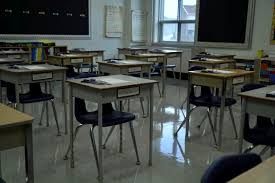desk: (65, 72, 157, 182), (186, 66, 256, 149), (0, 62, 65, 137), (96, 58, 155, 77), (48, 51, 95, 74)
